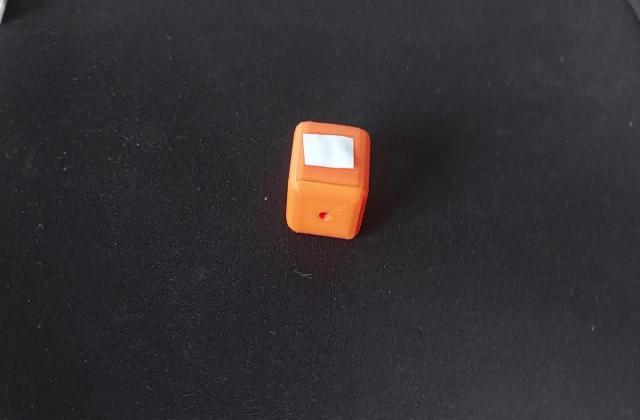sticker: (284, 118, 378, 245)
white: (298, 132, 358, 172)
